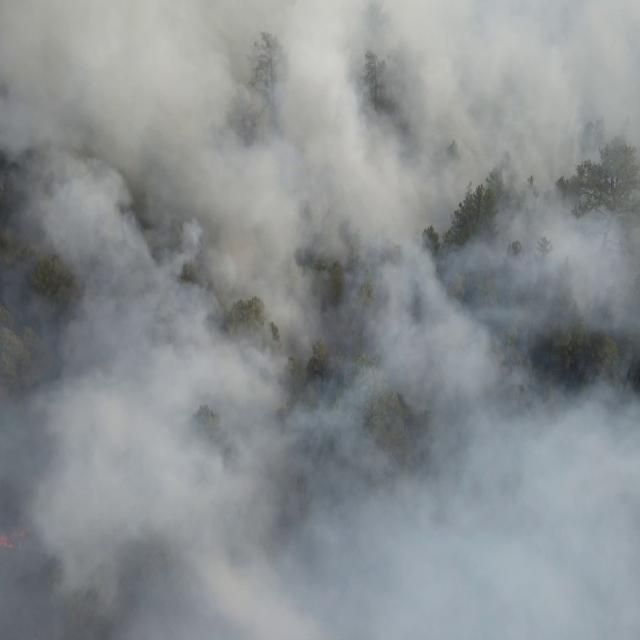fire: (0, 520, 30, 552)
smoke: (0, 0, 640, 640)
